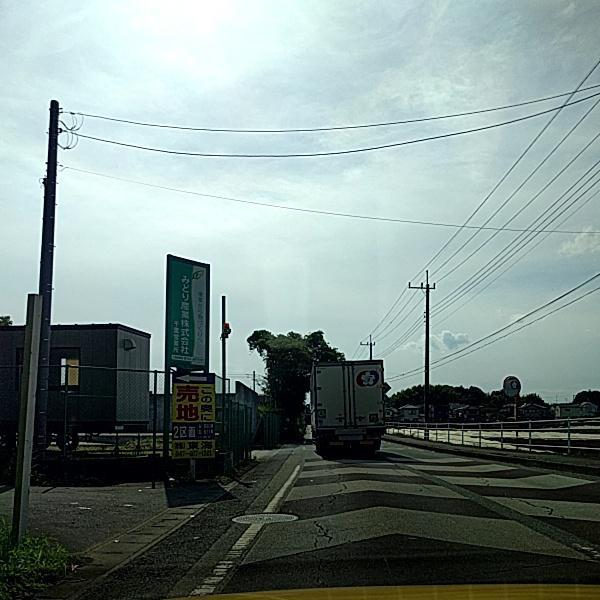D00: (471, 466, 553, 522), (307, 459, 345, 551)
D44: (192, 467, 298, 591)
